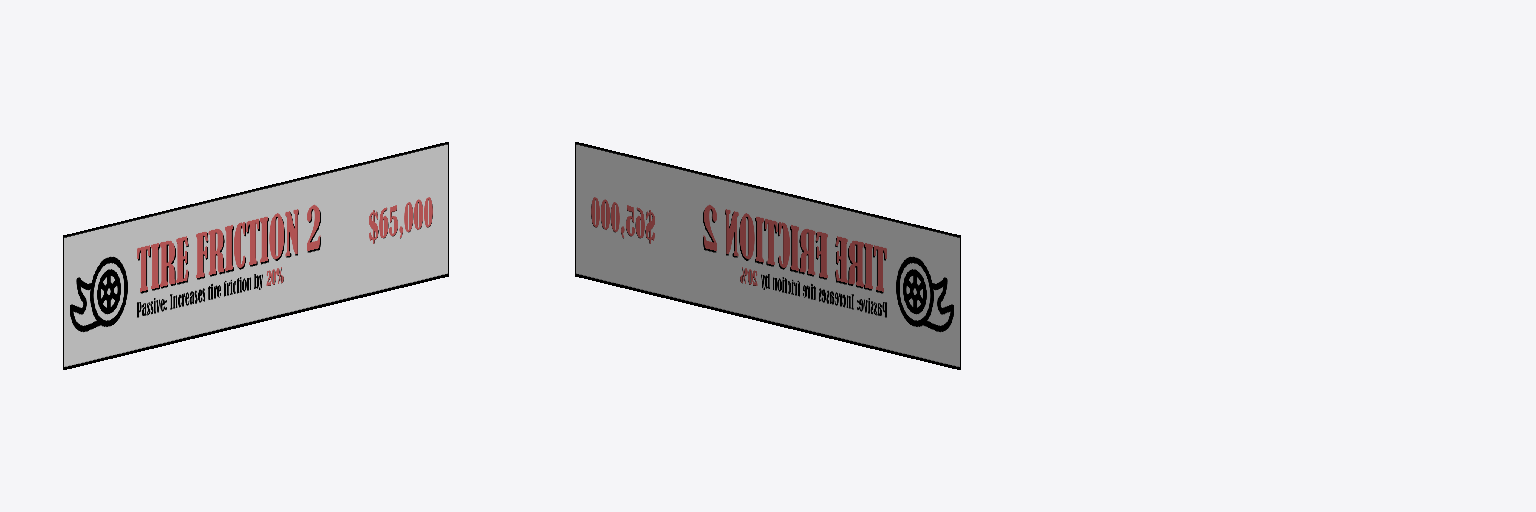
3 renders of one model, left to right at view 1: azimuth 30°, elevation 25°; view 2: azimuth 150°, elevation 25°; view 3: azimuth 270°, elevation 25°, orthographic.
Visible parts, largest first — view 1: Plane.003; view 2: Plane.003; view 3: none.
Part boxes in pixels (x1,y1,x2,y2): Plane.003: (63, 142, 448, 369); Plane.003: (575, 142, 960, 369).
Bounding box in the file's own units: 0.9 × 0.3 × 0.
Materials: 1 (1 with a texture image).